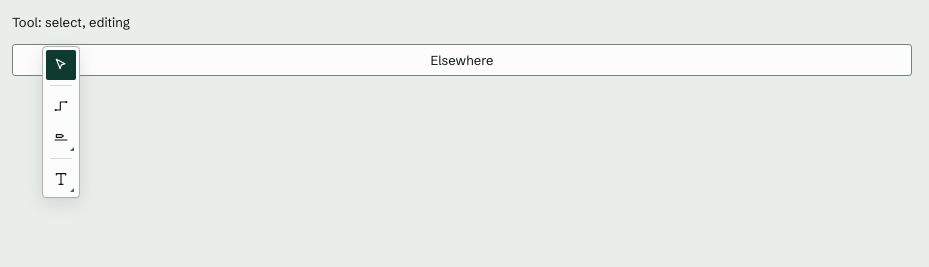
ToolRail › shows the group's tool in use on its button, and remembers the last one chosen
Step 1. Click the 1st button with class "rail-open" → x=70, y=148, box [65,142,76,153]
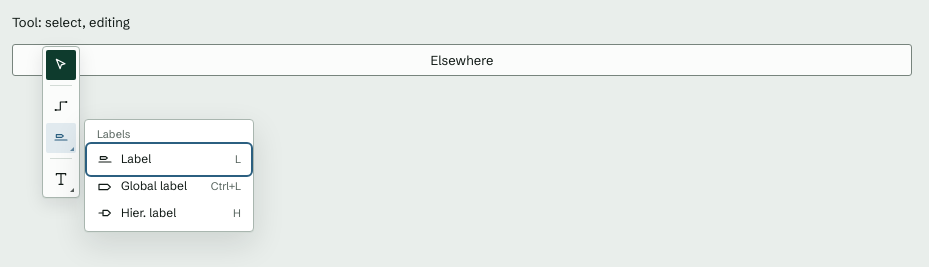
Step 2. Click the menu item "Hier. label H" → x=169, y=213, box [89,200,249,227]
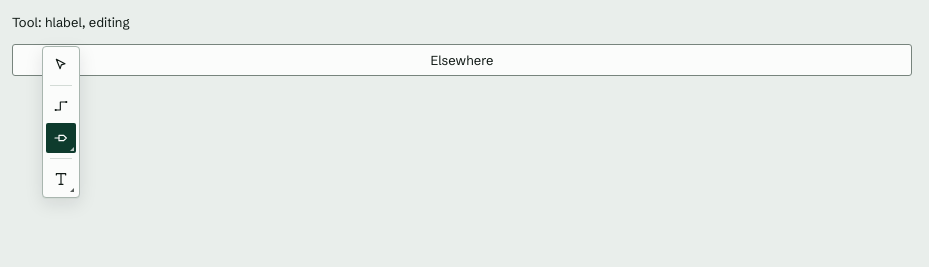
Check: the button with class "rail-tool" has attribute aria-label="Hier. label", box [46,123,76,153]
Check: the button with class "rail-tool" is pressed, box [46,123,76,153]
Another tool: the group keeps showing the last one, and a click uses it again.
Step 3. Click the button named "Wire" → x=61, y=106, box [46,91,76,121]
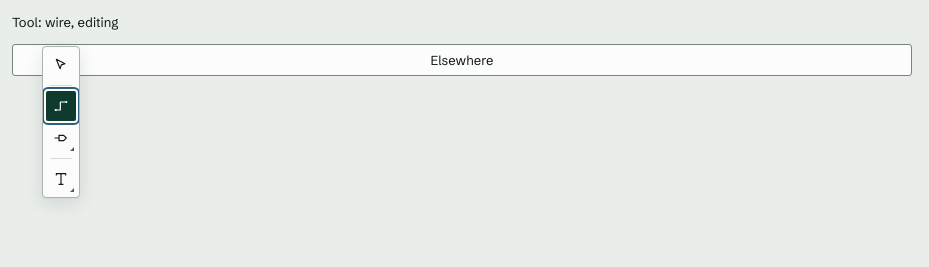
Check: the button with class "rail-tool" has attribute aria-label="Hier. label"
Step 4. Click the button named "Hier. label" → x=61, y=138, box [46,123,76,153]
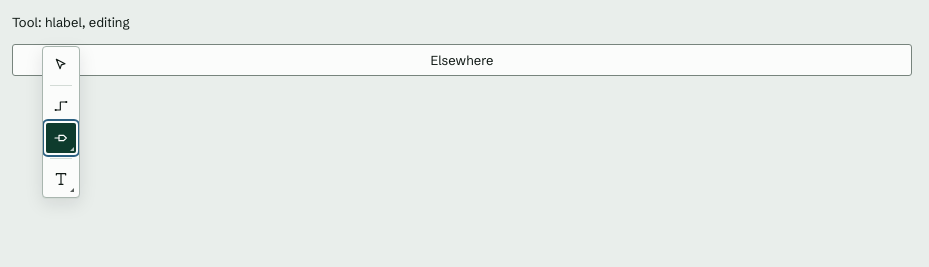
Check: the text "Tool: hlabel, editing" is shown, box [12,14,130,30]
